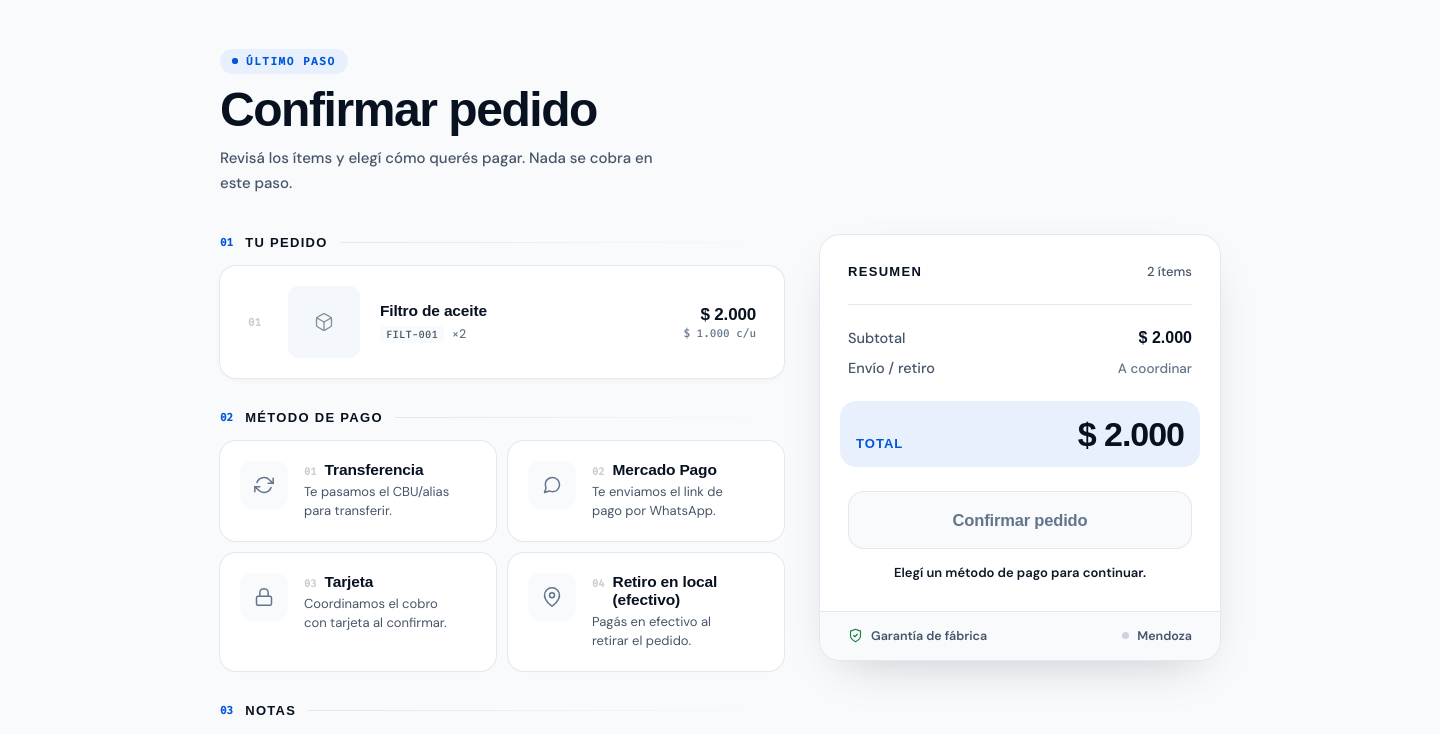
Test case: CheckoutPage — confirmación › muestra el mensaje de error del servidor si la creación falla
Step 1. Click the button "01 Transferencia Te pasamos el CBU/alias para transferir." → coordinates (358, 491), box [220,441,496,541]
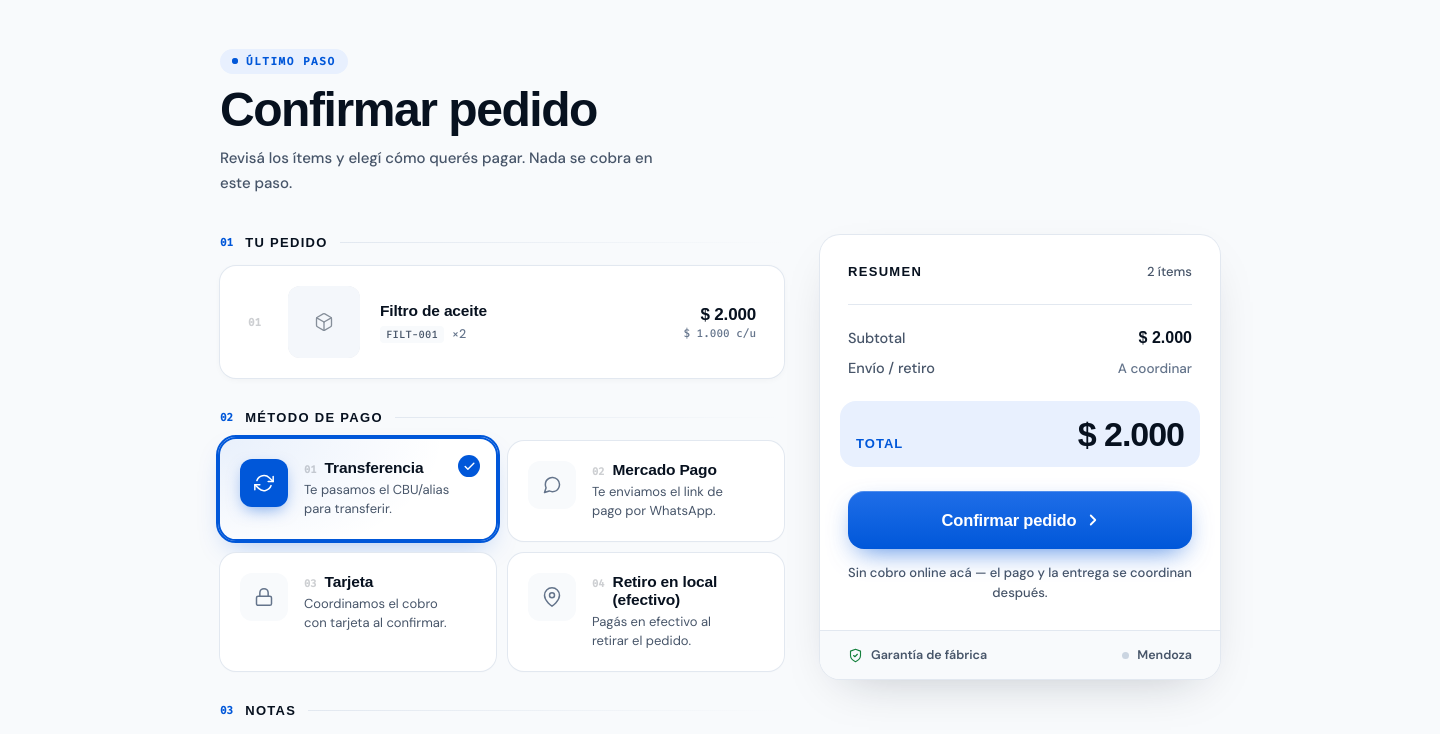
Step 2. Click the button "Confirmar pedido" → coordinates (1020, 520), box [848,491,1192,549]
(page scrolled)
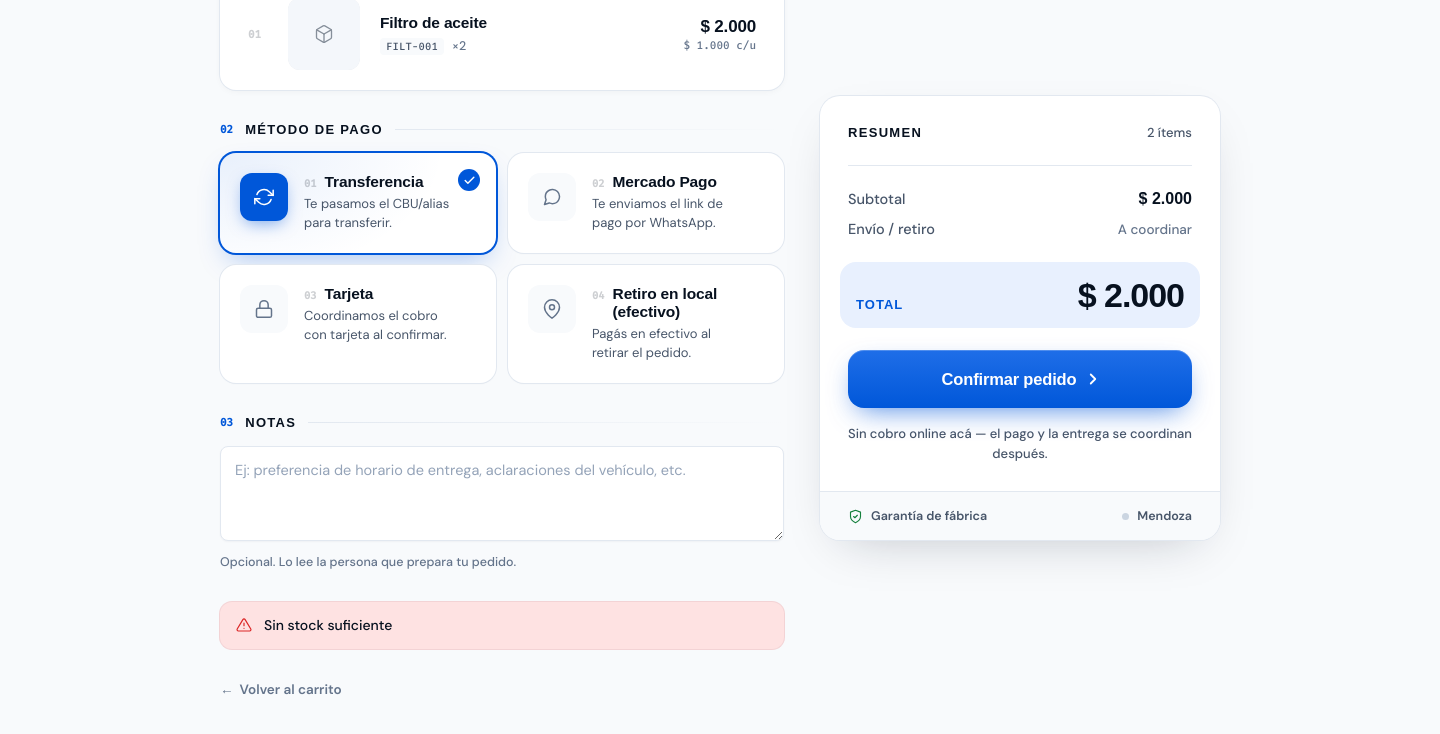
Expected: the text "Sin stock suficiente" is shown, [264,616,392,635]
